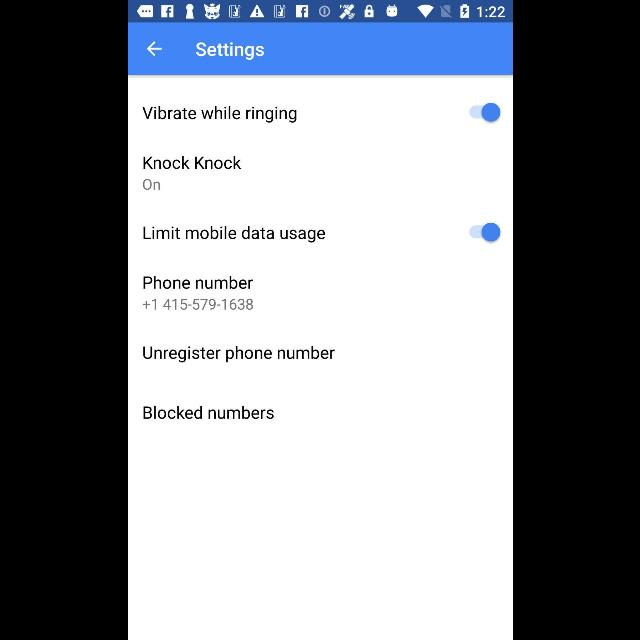icon: (146, 41, 162, 57)
switch: (468, 222, 499, 242), (468, 102, 499, 121)
text: (143, 226, 325, 244), (142, 346, 334, 362), (142, 106, 296, 124), (142, 406, 274, 419), (142, 276, 252, 290), (143, 156, 241, 170), (142, 298, 252, 310), (195, 42, 263, 60), (142, 180, 160, 190)
toolbar: (128, 24, 510, 76)
uppertaskbar: (128, 1, 512, 23)
